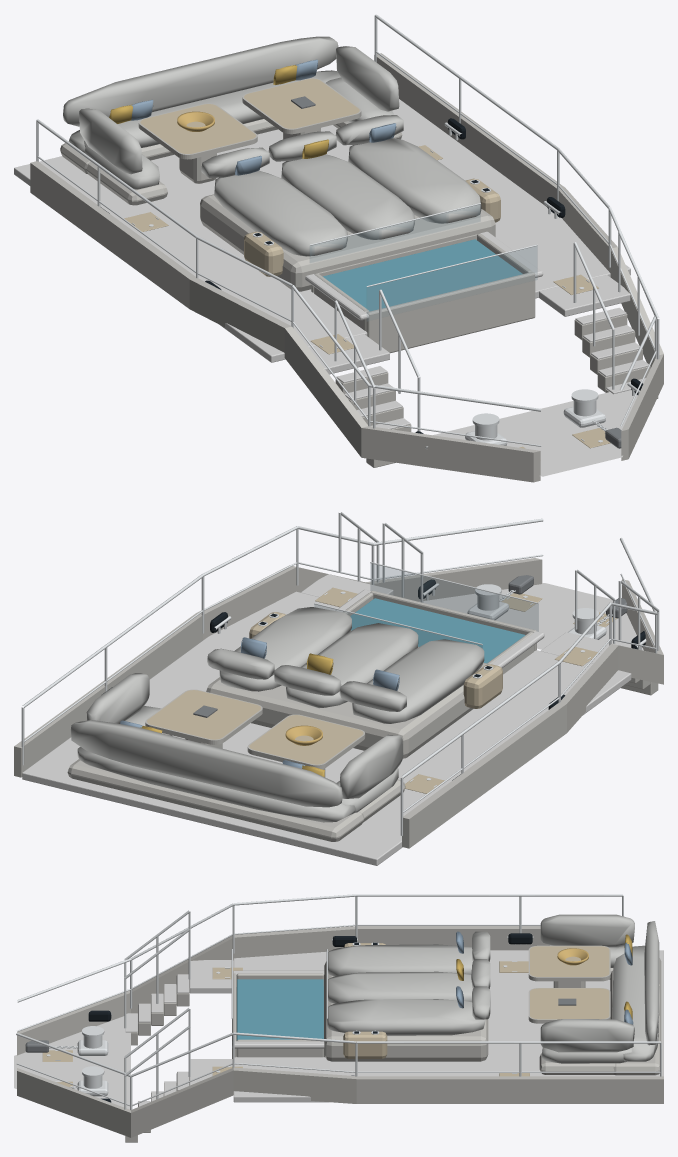
The model's file is context.glb.
3 renders of one model, top to bottom at view 1: azimuth 30°, elevation 25°; view 2: azimuth 150°, elevation 25°; view 3: azimuth 270°, elevation 25°, orthographic. The views are drawn at different scales.
Parts seen in each view (by area): view 1: bow | bow, bow | none; view 2: bow | bow, bow | none; view 3: bow | bow, bow | none.
Part boxes in pixels (x1,y1,x2,y2): bow | bow: (14, 36, 663, 482); bow | none: (36, 14, 659, 448); bow | bow: (14, 558, 663, 865); bow | none: (21, 512, 659, 835); bow | bow: (14, 914, 663, 1142); bow | none: (16, 894, 661, 1110).
Size of the model in its own units: 6.05 by 2.25 by 10.86.
